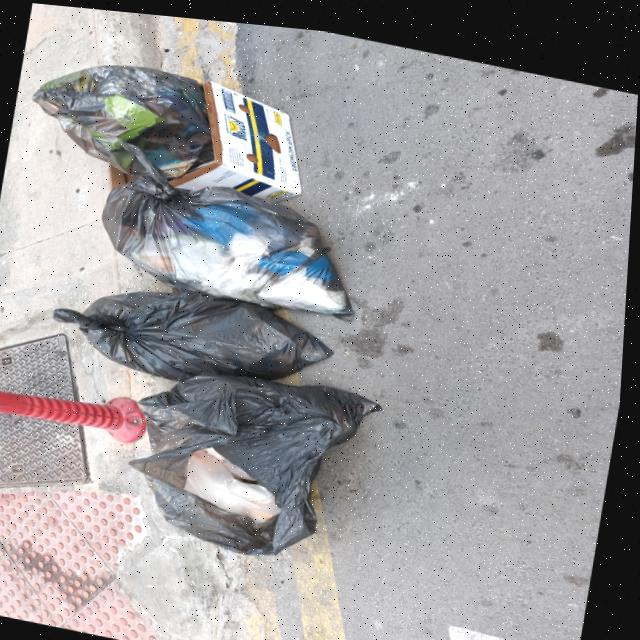Mixed Waste -Black Bag-: (122, 345, 394, 575), (85, 135, 379, 319), (46, 262, 344, 405), (20, 43, 225, 191)
Other: (103, 60, 322, 220)
